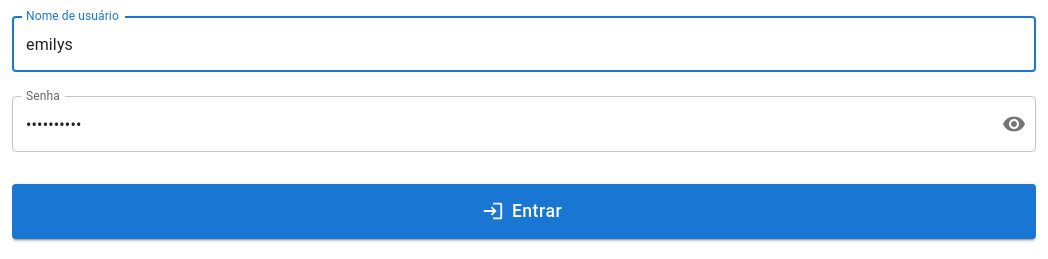
Scenario: LoginForm › toggles password visibility when visibility icon is clicked
Click the button with test id "password-visibility-toggle" at [1014, 124], box [994,104,1034,144]
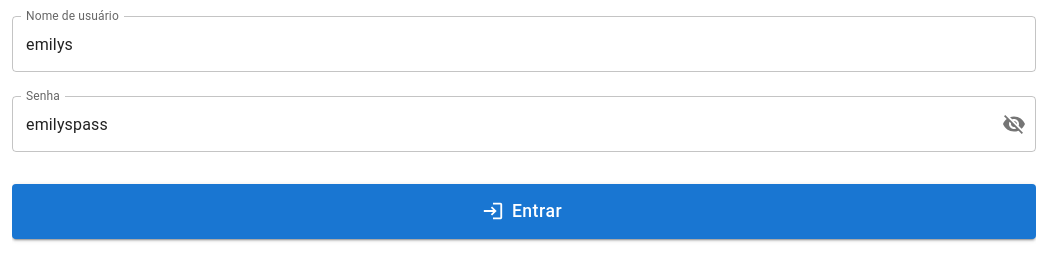
expect the field labelled "Senha" shows its text: met, box [12,96,986,152]
Click the button with test id "password-visibility-toggle" at [1014, 124], box [994,104,1034,144]
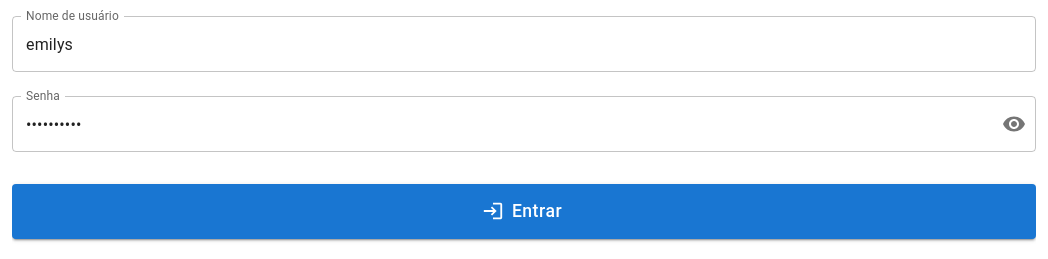
expect the password field labelled "Senha" hides its text: met, box [12,96,986,152]
